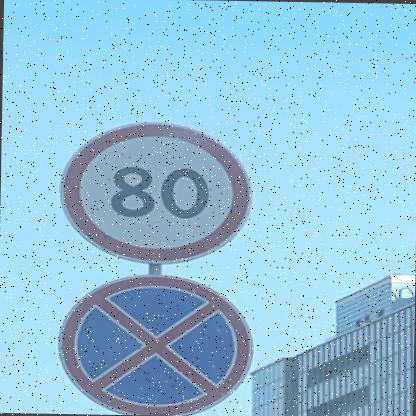speedlimit: (55, 119, 252, 263)
